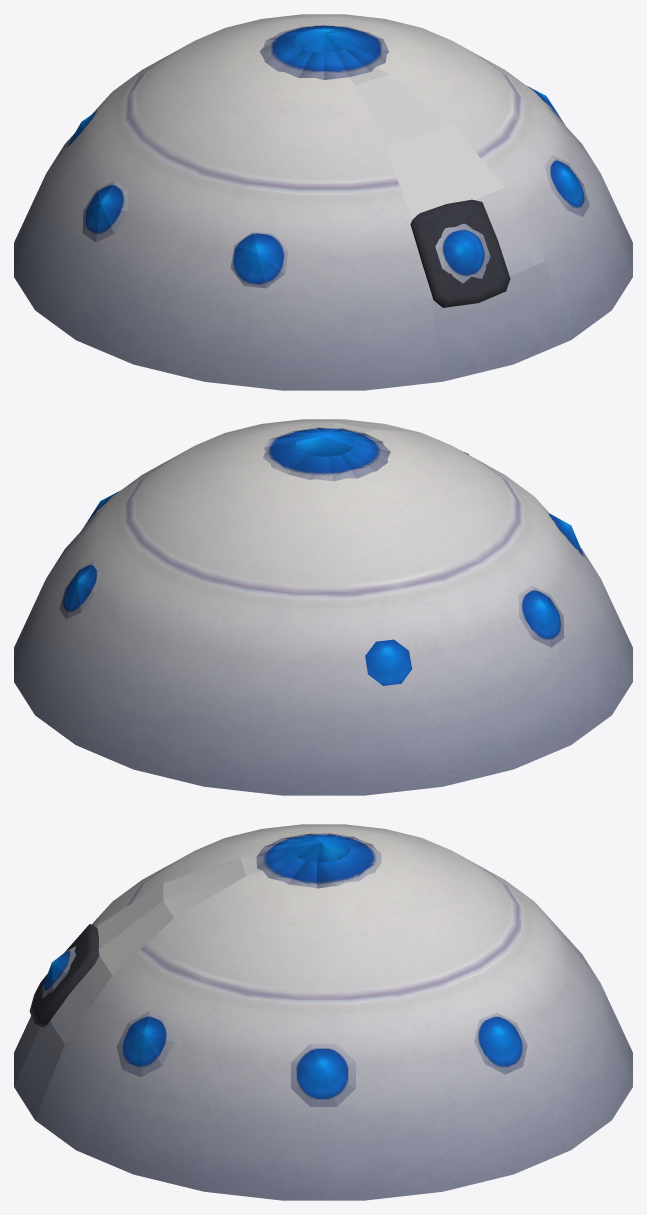
The model's file is nameikexing_jianzhu_01_002.FBX.
The picture shows the model from 3 angles, top to bottom: view 1: azimuth 30°, elevation 25°; view 2: azimuth 150°, elevation 25°; view 3: azimuth 270°, elevation 25°; orthographic projection.
Visible parts, largest first — view 1: nameikexing_jianzhu2_001, nameikexing_jianzhu2_lie_02, nameikexing_jianzhu2_zhu_, men_01, nameikexing_jianzhu_01_002; view 2: nameikexing_jianzhu2_001, nameikexing_jianzhu2_zhu_, nameikexing_jianzhu_01_002, nameikexing_jianzhu2_lie_02; view 3: nameikexing_jianzhu2_001, nameikexing_jianzhu2_zhu_, nameikexing_jianzhu2_lie_02, nameikexing_jianzhu_01_002, men_01.
Boxes of the visible parts, box(x1,y1,x2,y2) form: nameikexing_jianzhu2_001: box(14, 14, 632, 390); nameikexing_jianzhu2_lie_02: box(349, 67, 504, 217); nameikexing_jianzhu2_zhu_: box(67, 86, 589, 288); men_01: box(410, 199, 510, 307); nameikexing_jianzhu_01_002: box(259, 25, 389, 79); nameikexing_jianzhu2_001: box(14, 419, 632, 795); nameikexing_jianzhu2_zhu_: box(59, 491, 584, 685); nameikexing_jianzhu_01_002: box(263, 427, 390, 481); nameikexing_jianzhu2_lie_02: box(332, 419, 419, 432); nameikexing_jianzhu2_001: box(14, 824, 632, 1200); nameikexing_jianzhu2_zhu_: box(42, 946, 527, 1106); nameikexing_jianzhu2_lie_02: box(97, 857, 262, 975); nameikexing_jianzhu_01_002: box(256, 833, 381, 888); men_01: box(29, 924, 99, 1027).
Size of the model in its own units: 551 by 223 by 551.
